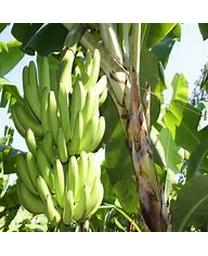banana: (14, 49, 110, 223)
